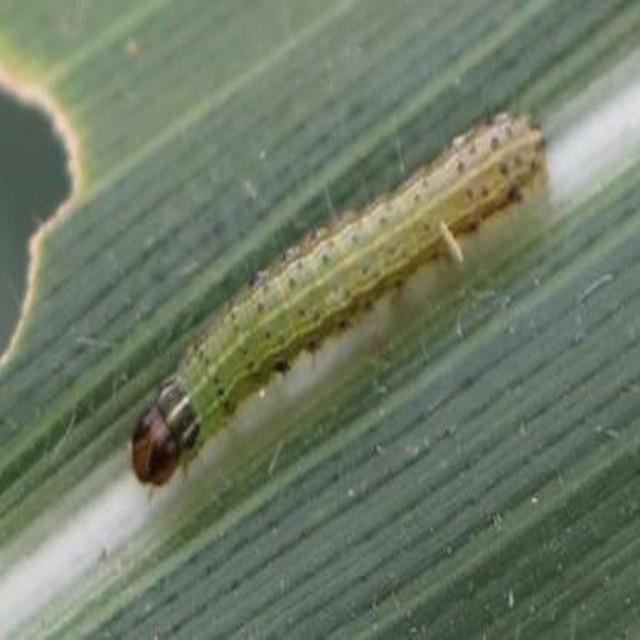gusano_cogollero: (135, 115, 547, 487)
